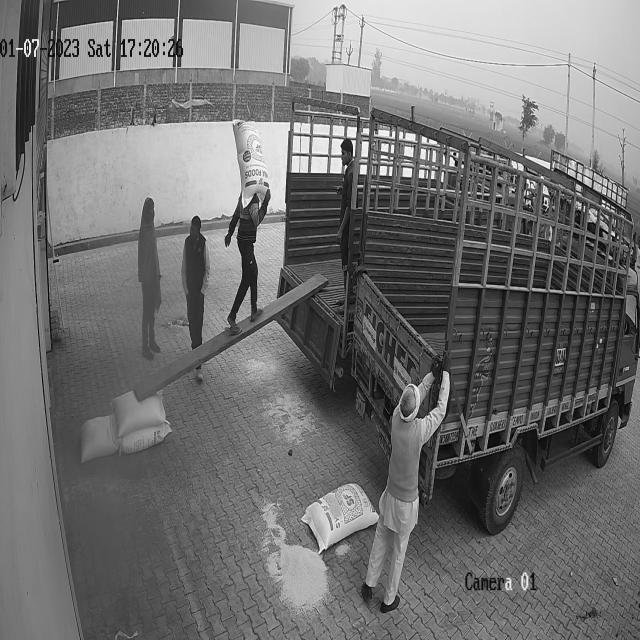sack: (301, 483, 378, 552), (232, 117, 269, 210), (110, 388, 166, 437), (79, 414, 119, 462), (121, 422, 172, 453)
